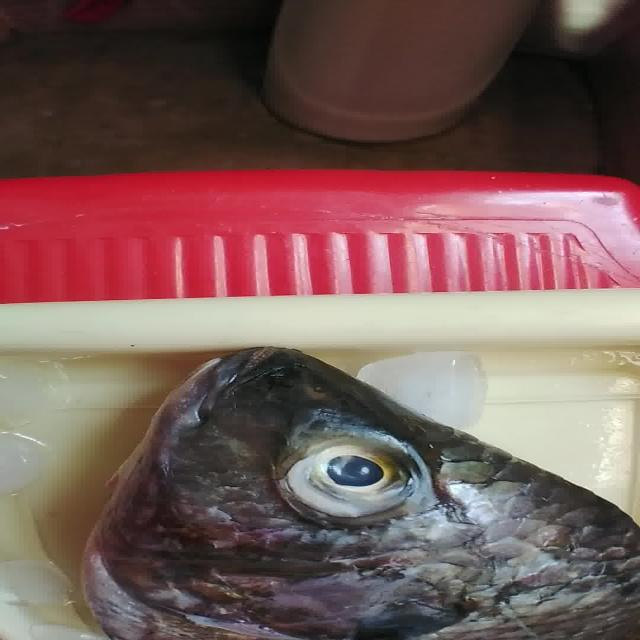Fresh: (247, 426, 476, 524)
